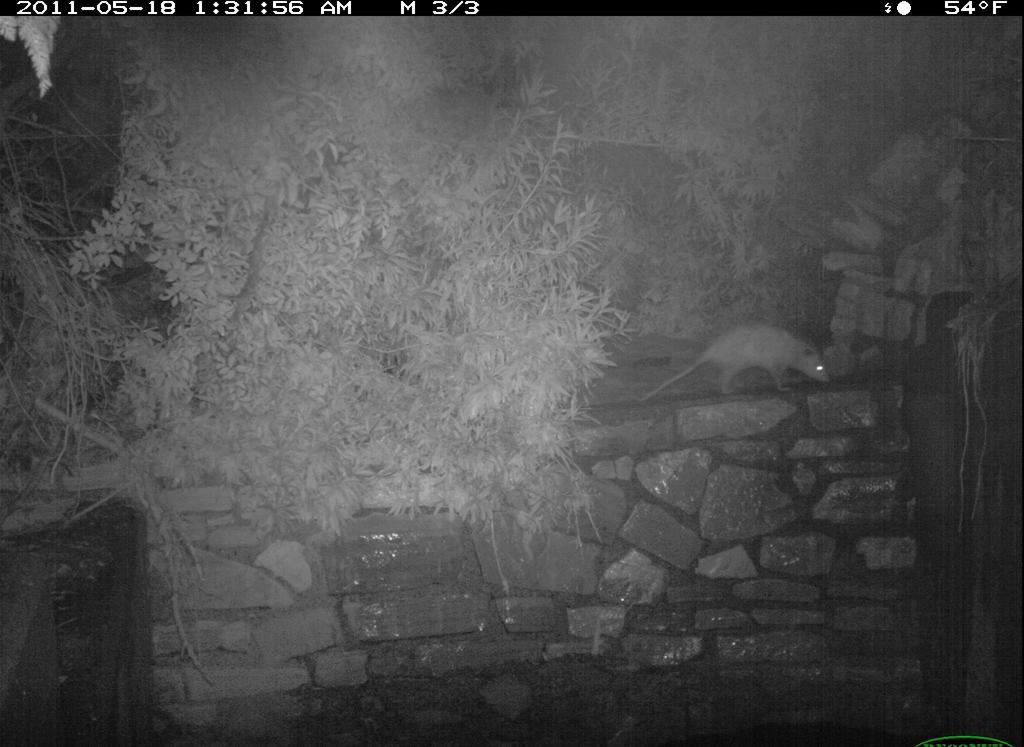opossum: (634, 310, 835, 399)
